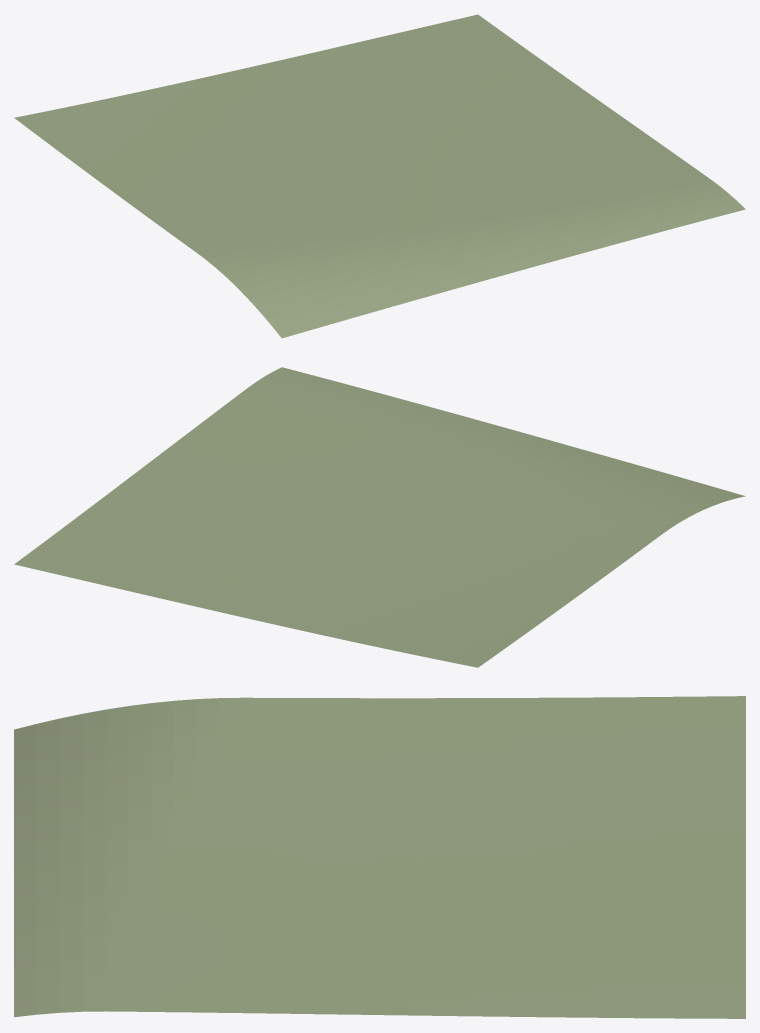
File: expanse-17-8.glb
The picture shows the model from 3 angles, top to bottom: view 1: azimuth 30°, elevation 25°; view 2: azimuth 150°, elevation 25°; view 3: azimuth 270°, elevation 25°; orthographic projection. The views are drawn at different scales.
Parts seen in each view (by area): view 1: expanse-17-8; view 2: expanse-17-8; view 3: expanse-17-8.
Part boxes in pixels (box(x1,y1,x2,y2)): expanse-17-8: box(14, 14, 745, 338); expanse-17-8: box(14, 367, 745, 667); expanse-17-8: box(14, 696, 745, 1018).
Bounding box in the file's own units: 256 × 12.95 × 256.
